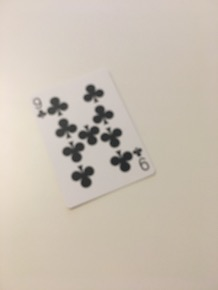NineOfClubs: (22, 67, 161, 215)
